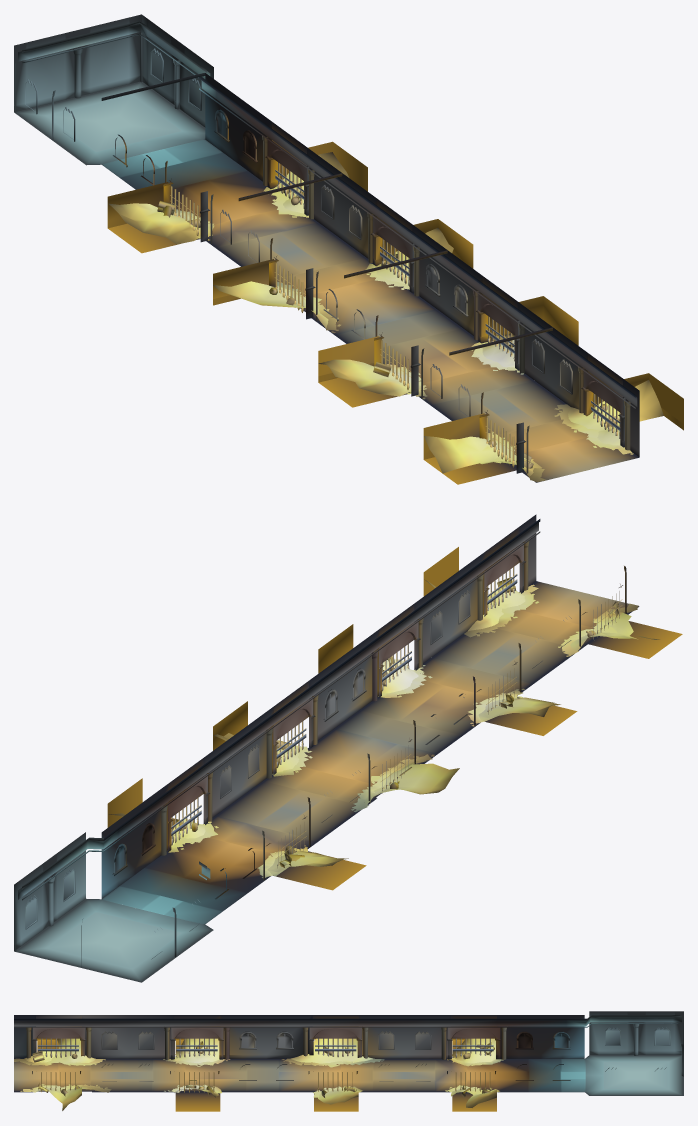
File: 05HallTreasure.gltf
The picture shows the model from 3 angles, top to bottom: view 1: azimuth 30°, elevation 25°; view 2: azimuth 150°, elevation 25°; view 3: azimuth 270°, elevation 25°; orthographic projection. The views are drawn at different scales.
Visible parts, largest first — view 1: stg040_o41_Mesh_0011, stg040_o41_Mesh_0012, stg040_o41_Mesh_0003, stg040_o41_Mesh_0006, stg040_o41_Mesh_0016, stg040_o41_Mesh_0013, stg040_o41_Mesh_0014, stg040_o41_Mesh_0005, stg040_o41_Mesh_0000, stg040_p41_Mesh_0000, stg040_o41_Mesh_0004, stg040_o41_Mesh_0015 (+2 smaller); view 2: stg040_o41_Mesh_0011, stg040_o41_Mesh_0012, stg040_o41_Mesh_0003, stg040_o41_Mesh_0013, stg040_o41_Mesh_0014, stg040_o41_Mesh_0016, stg040_o41_Mesh_0006, stg040_o41_Mesh_0005, stg040_p41_Mesh_0000, stg040_o41_Mesh_0000, stg040_o41_Mesh_0004, stg040_o41_Mesh_0007 (+2 smaller); view 3: stg040_o41_Mesh_0011, stg040_o41_Mesh_0012, stg040_o41_Mesh_0003, stg040_o41_Mesh_0006, stg040_o41_Mesh_0013, stg040_o41_Mesh_0016, stg040_o41_Mesh_0014, stg040_o41_Mesh_0005, stg040_o41_Mesh_0004, stg040_o41_Mesh_0000, stg040_p41_Mesh_0000, stg040_o41_Mesh_0007 (+2 smaller).
Part boxes in pixels (x1=…): stg040_o41_Mesh_0011: x1=104, y1=140, x2=637, y2=484; stg040_o41_Mesh_0012: x1=14, y1=21, x2=683, y2=482; stg040_o41_Mesh_0003: x1=78, y1=14, x2=648, y2=453; stg040_o41_Mesh_0006: x1=14, y1=30, x2=683, y2=467; stg040_o41_Mesh_0016: x1=108, y1=152, x2=663, y2=477; stg040_o41_Mesh_0013: x1=17, y1=82, x2=597, y2=472; stg040_o41_Mesh_0014: x1=49, y1=96, x2=573, y2=449; stg040_o41_Mesh_0005: x1=52, y1=50, x2=630, y2=475; stg040_o41_Mesh_0000: x1=170, y1=162, x2=620, y2=467; stg040_p41_Mesh_0000: x1=174, y1=187, x2=633, y2=482; stg040_o41_Mesh_0004: x1=52, y1=48, x2=630, y2=431; stg040_o41_Mesh_0015: x1=25, y1=48, x2=623, y2=448; stg040_o41_Mesh_0011: x1=104, y1=581, x2=682, y2=923; stg040_o41_Mesh_0012: x1=14, y1=519, x2=649, y2=982; stg040_o41_Mesh_0003: x1=14, y1=514, x2=536, y2=944; stg040_o41_Mesh_0013: x1=17, y1=591, x2=597, y2=981; stg040_o41_Mesh_0014: x1=49, y1=614, x2=573, y2=967; stg040_o41_Mesh_0016: x1=109, y1=579, x2=659, y2=876; stg040_o41_Mesh_0006: x1=107, y1=547, x2=458, y2=867; stg040_o41_Mesh_0005: x1=26, y1=545, x2=626, y2=966; stg040_p41_Mesh_0000: x1=168, y1=584, x2=638, y2=877; stg040_o41_Mesh_0000: x1=171, y1=567, x2=622, y2=868; stg040_o41_Mesh_0004: x1=47, y1=541, x2=626, y2=919; stg040_o41_Mesh_0007: x1=112, y1=668, x2=467, y2=899; stg040_o41_Mesh_0011: x1=14, y1=1039, x2=584, y2=1111; stg040_o41_Mesh_0012: x1=14, y1=1015, x2=683, y2=1111; stg040_o41_Mesh_0003: x1=14, y1=1011, x2=683, y2=1055; stg040_o41_Mesh_0006: x1=266, y1=1011, x2=636, y2=1054; stg040_o41_Mesh_0013: x1=14, y1=1055, x2=682, y2=1095; stg040_o41_Mesh_0016: x1=24, y1=1038, x2=496, y2=1110; stg040_o41_Mesh_0014: x1=59, y1=1062, x2=667, y2=1088; stg040_o41_Mesh_0005: x1=26, y1=1026, x2=683, y2=1076; stg040_o41_Mesh_0004: x1=26, y1=1024, x2=683, y2=1047; stg040_o41_Mesh_0000: x1=38, y1=1038, x2=493, y2=1092; stg040_p41_Mesh_0000: x1=14, y1=1055, x2=503, y2=1097; stg040_o41_Mesh_0007: x1=239, y1=1031, x2=570, y2=1080.
Size of the model in its own units: 37.14 by 10.59 by 145.
